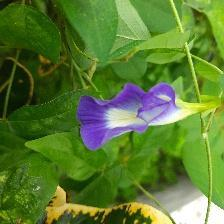shankupushpam: (75, 82, 203, 153)
